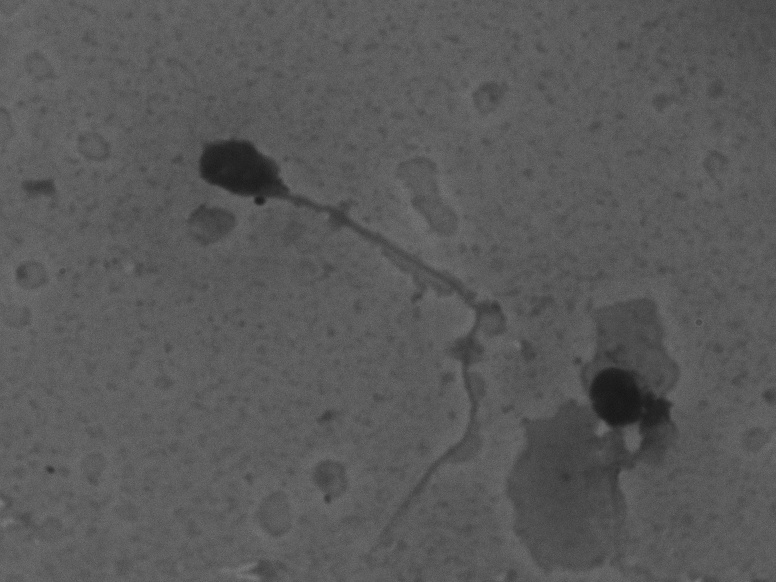Abnormal: (168, 96, 501, 555), (569, 330, 684, 555)
